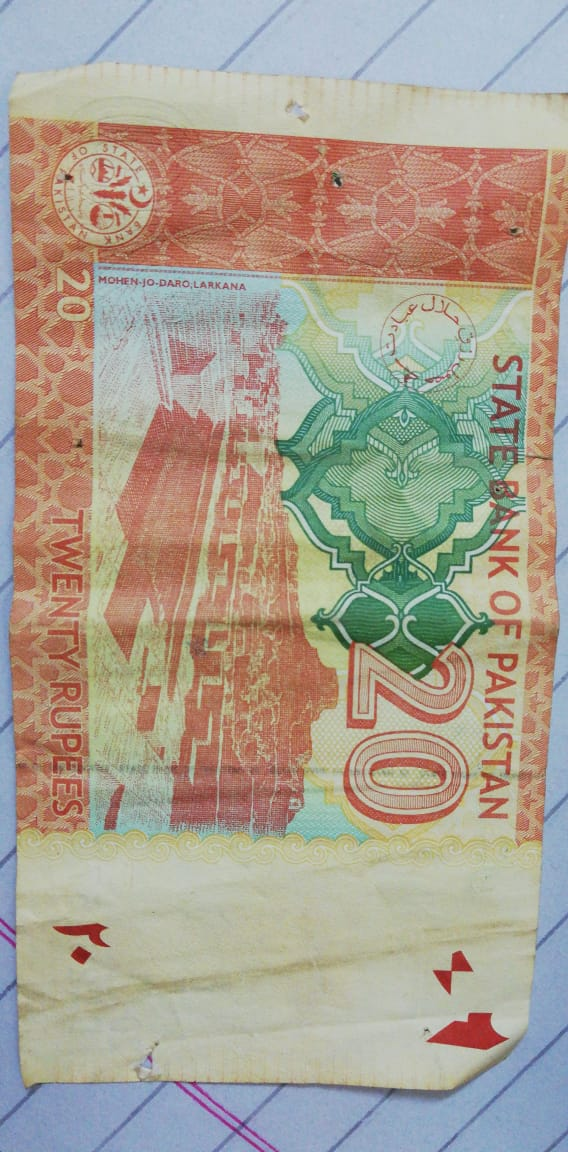20 rupee: (14, 47, 554, 1093)
